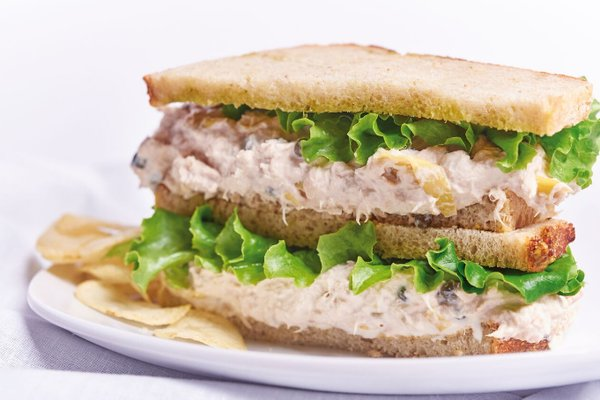soup: (121, 40, 590, 359)
